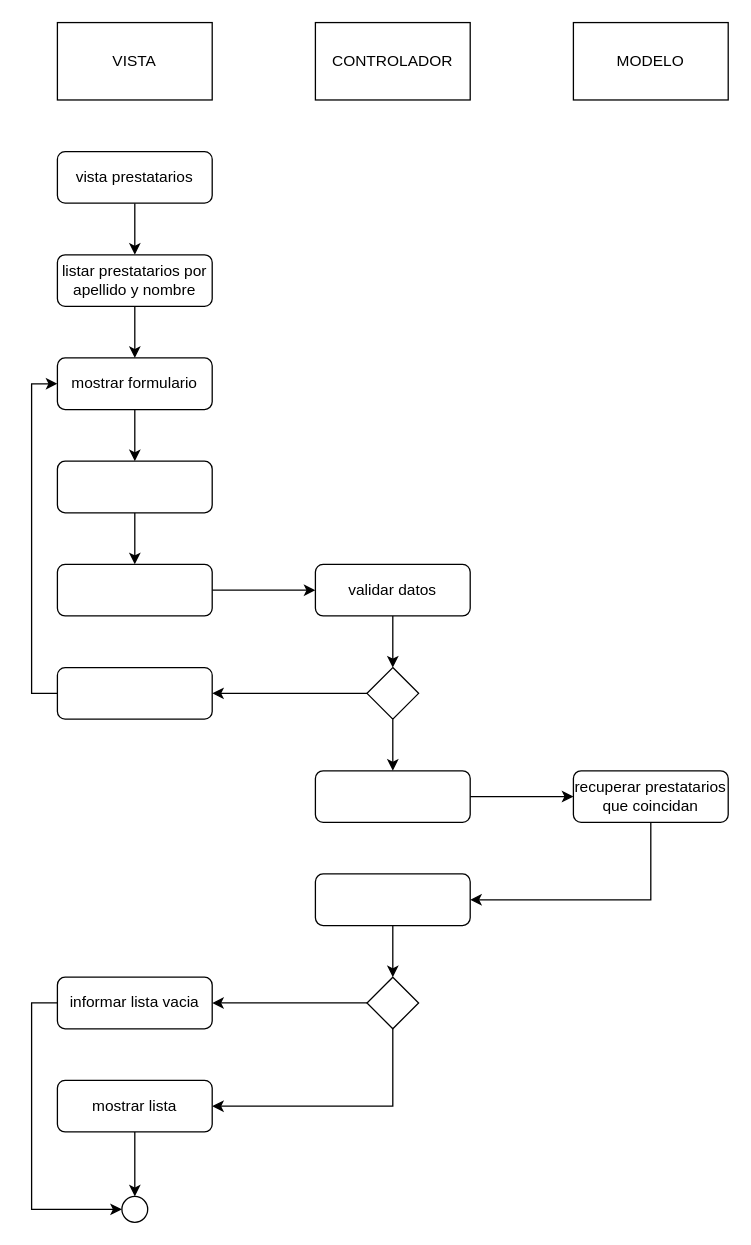
This 751x1245 diagram has some shape labels left out. The shapes that lost their labels are listed below. From the top down, each one's box as (x1, y1, x2, y2) in pixels, then its label:
(56, 460, 212, 513): completar formulario
(56, 563, 212, 616): confirmar formulario
(56, 666, 212, 719): informar error
(314, 769, 470, 822): recuperar lista prestatarios
(314, 873, 470, 926): comprobar lista
